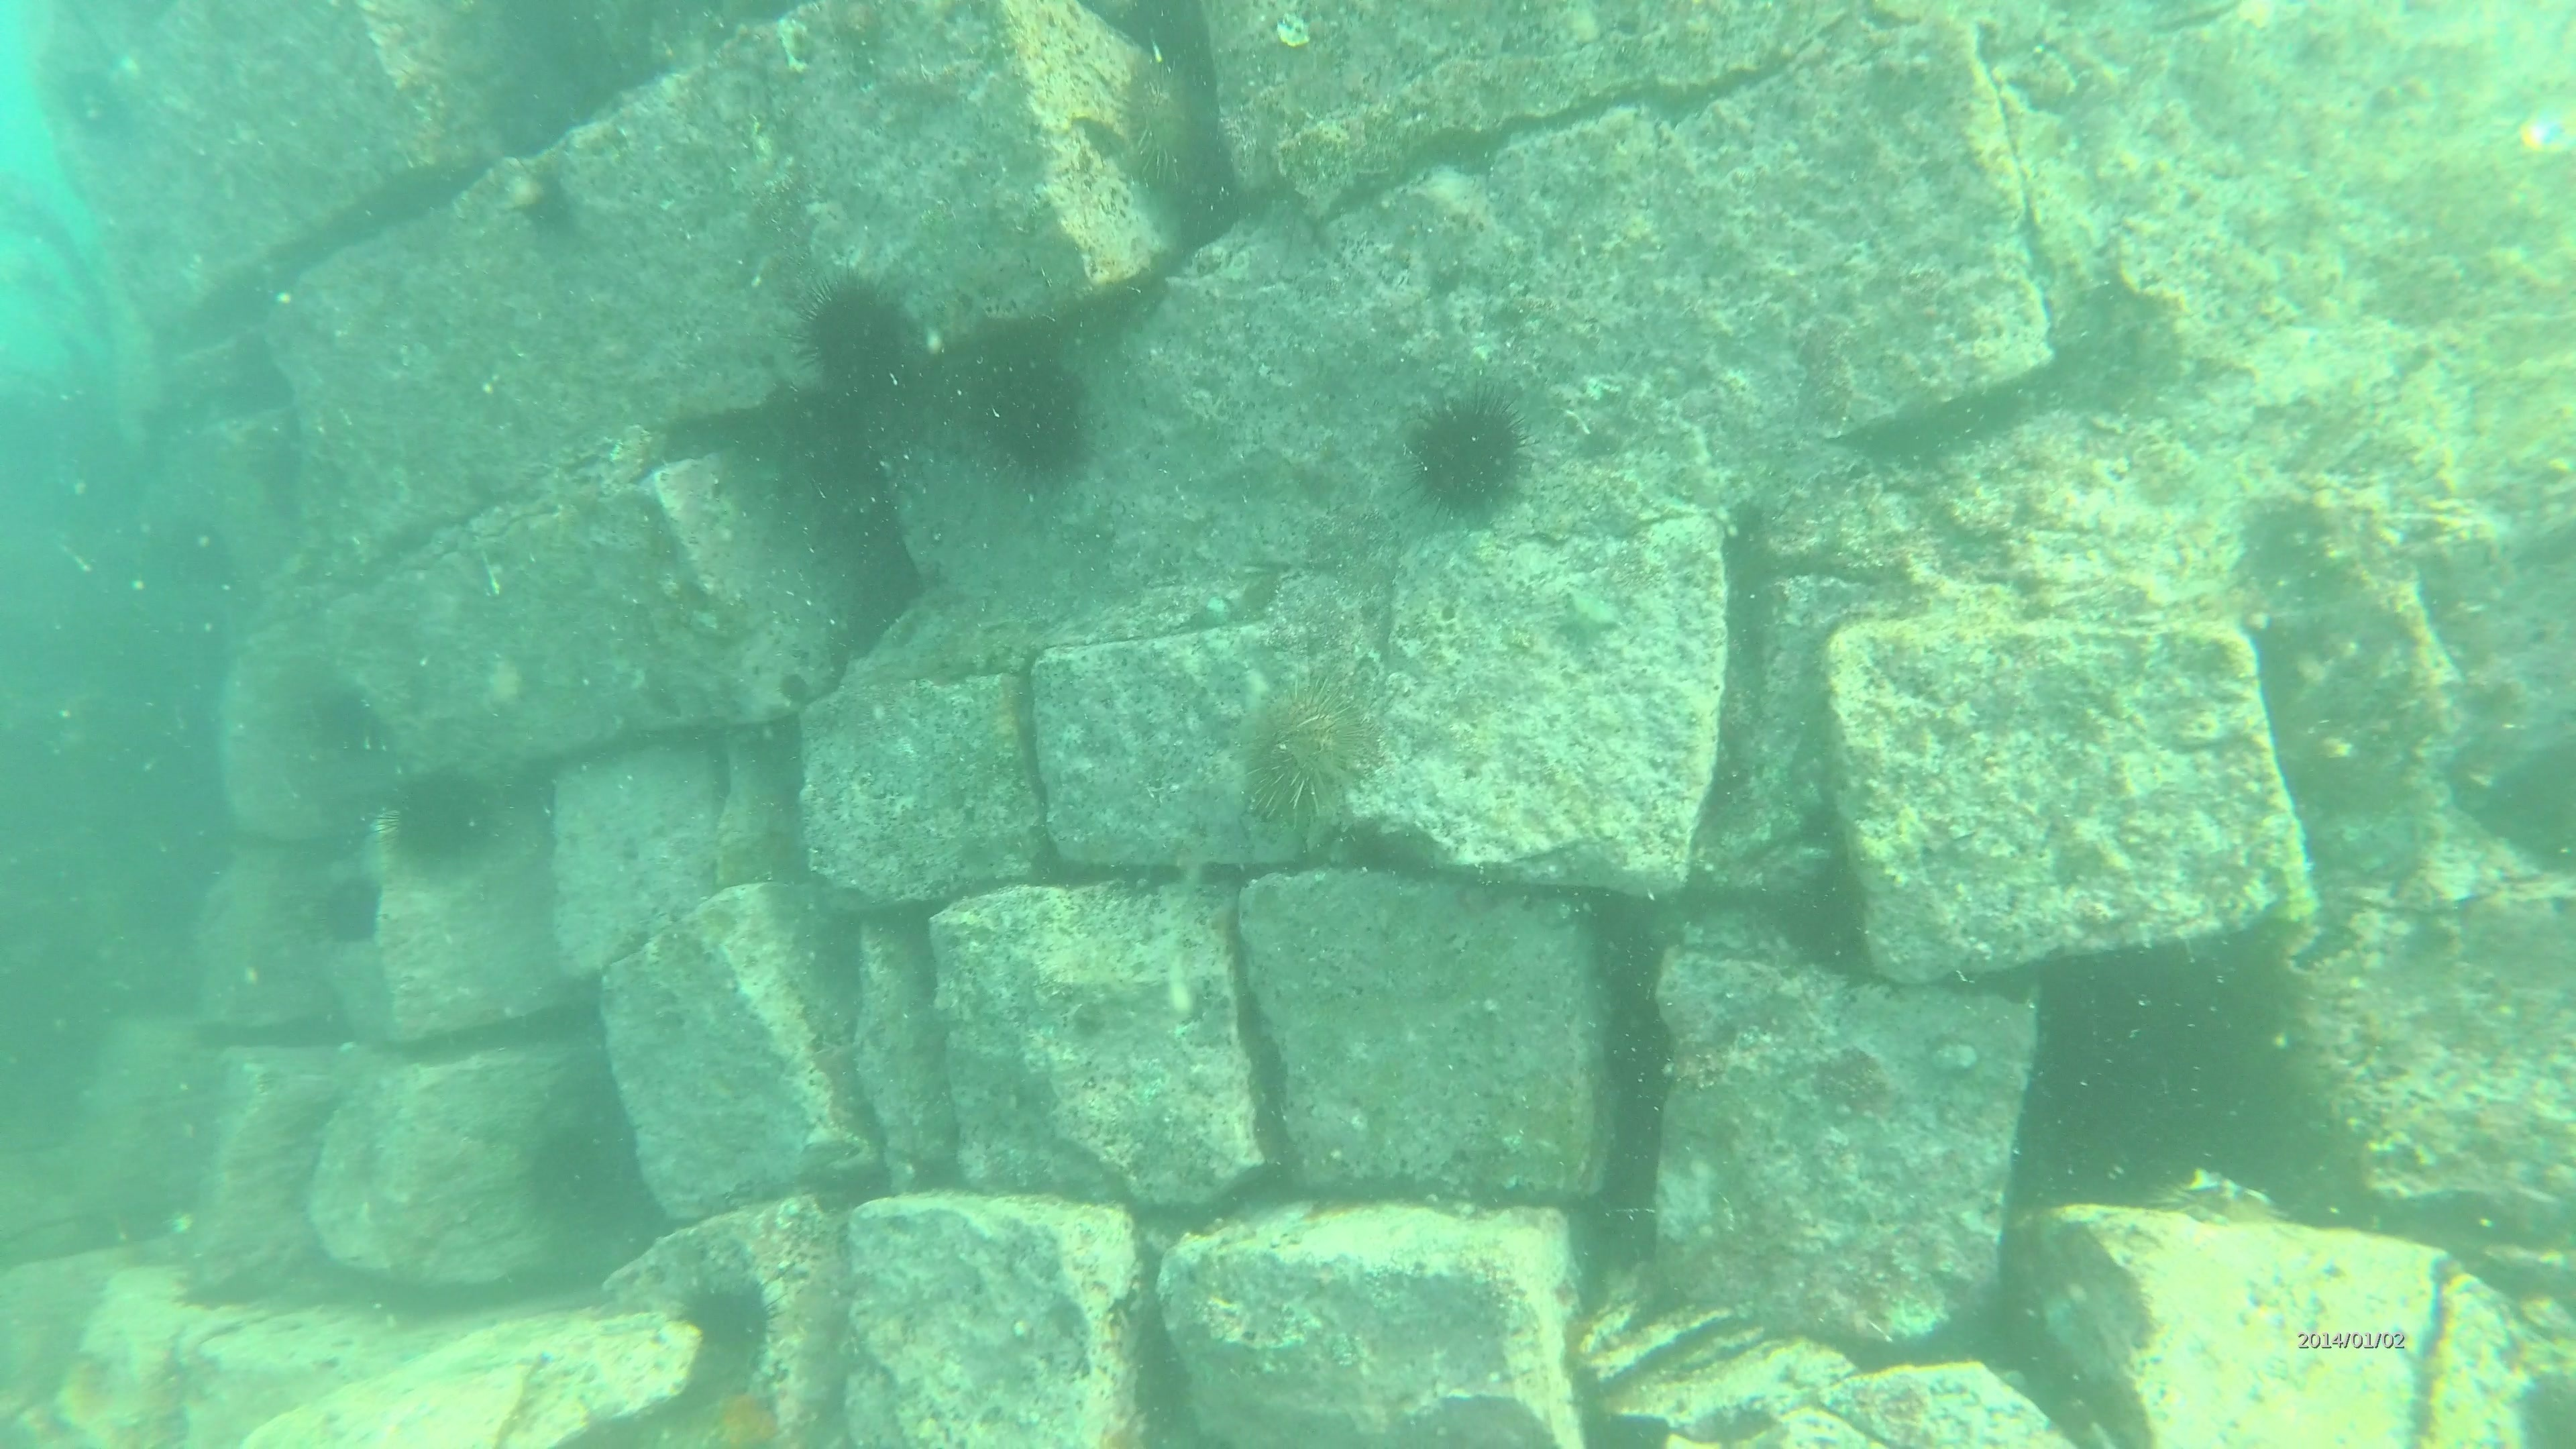echinus: (1230, 663, 1389, 833), (1396, 384, 1537, 525), (791, 269, 927, 405), (970, 347, 1102, 487), (511, 1109, 635, 1242), (380, 761, 508, 874), (1108, 53, 1207, 189), (671, 1269, 780, 1369), (297, 676, 395, 766), (306, 867, 389, 952)
